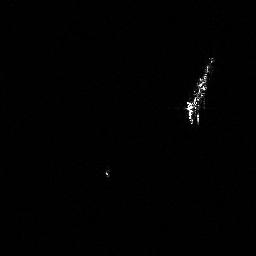ship: (180, 54, 219, 127)
